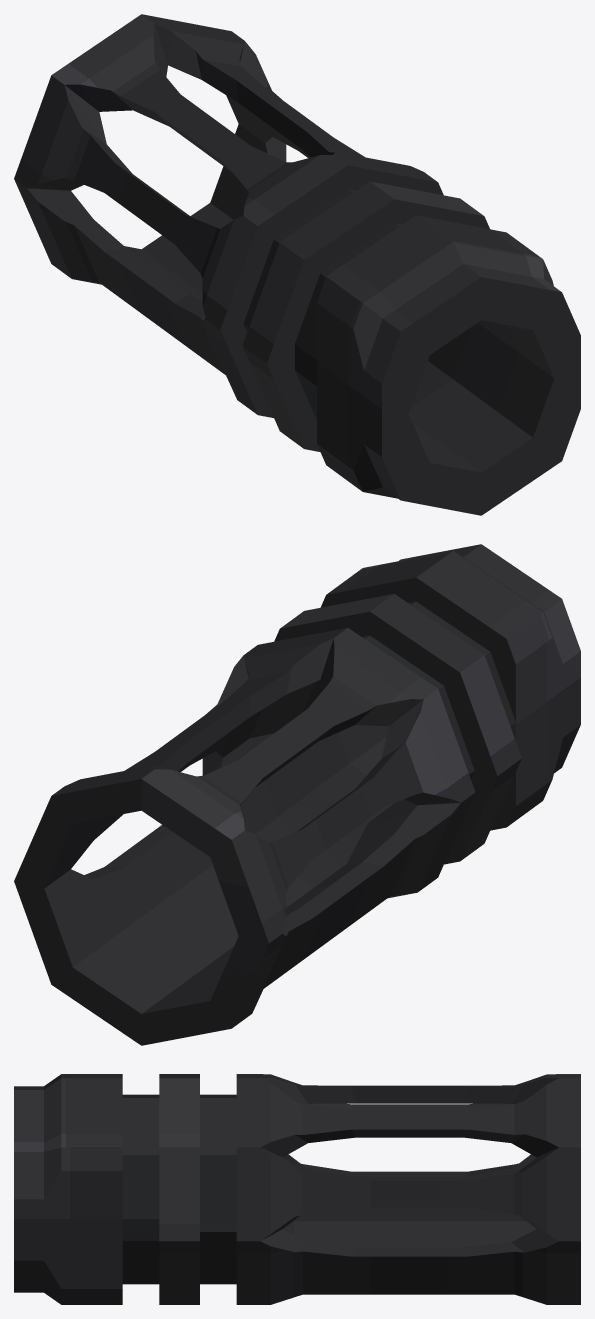
The model's file is A2_flash_hider.gltf.
3 renders of one model, top to bottom at view 1: azimuth 30°, elevation 25°; view 2: azimuth 150°, elevation 25°; view 3: azimuth 270°, elevation 25°, orthographic. The views are drawn at different scales.
Parts seen in each view (by area): view 1: Object_41_Object_21; view 2: Object_41_Object_21; view 3: Object_41_Object_21.
Part boxes in pixels (x1,y1,x2,y2): Object_41_Object_21: (14, 14, 580, 515); Object_41_Object_21: (14, 544, 580, 1045); Object_41_Object_21: (14, 1074, 580, 1304).
Bounding box in the file's own units: 0.2015 × 0.2015 × 0.4651.
1 material, 1 textured.
